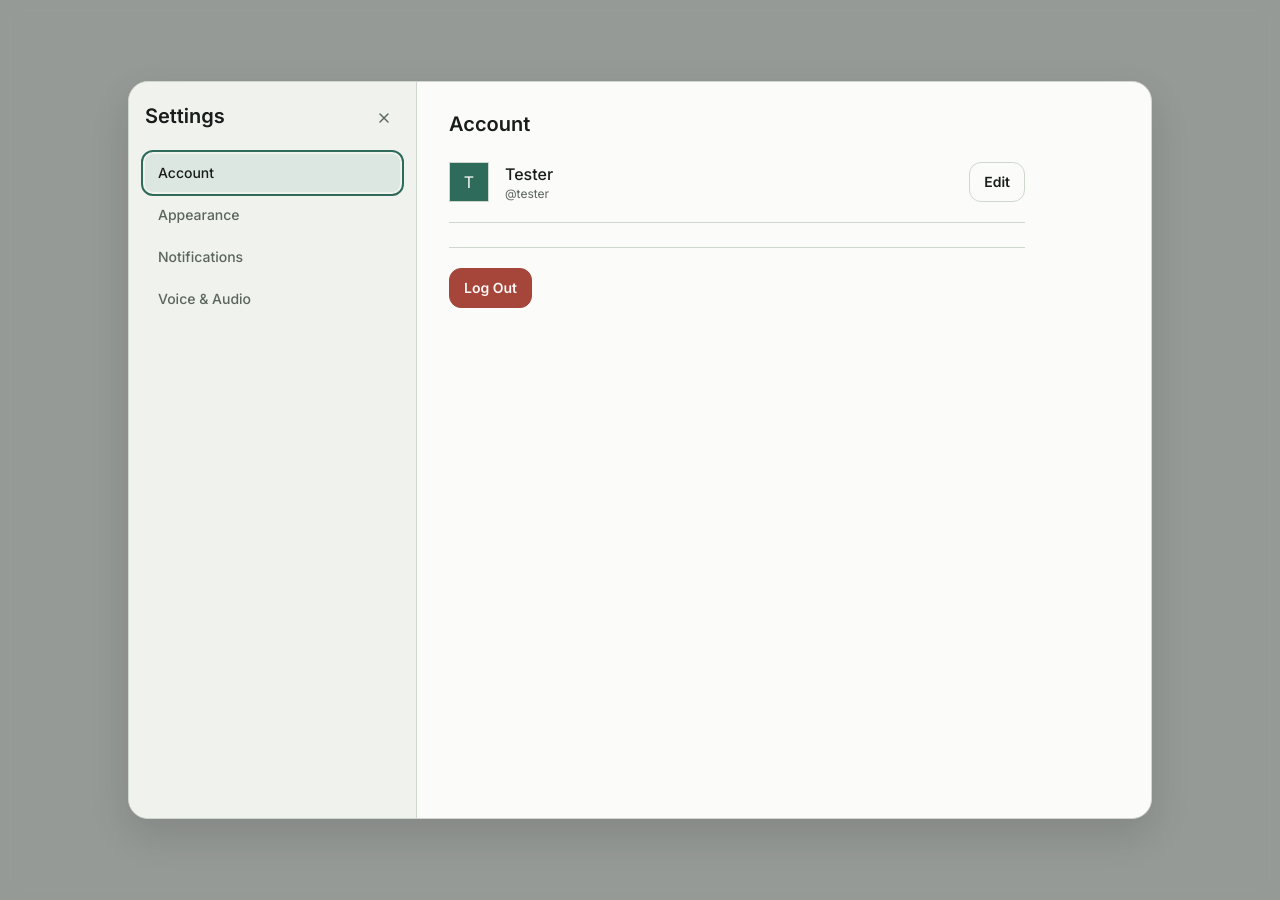
Test case: SettingsPage audio settings › shows device-label help when browser enumeration stays limited
The image size is (1280, 900).
Click the tab "Voice & Audio" at (272, 299), box [145,280,400,318]
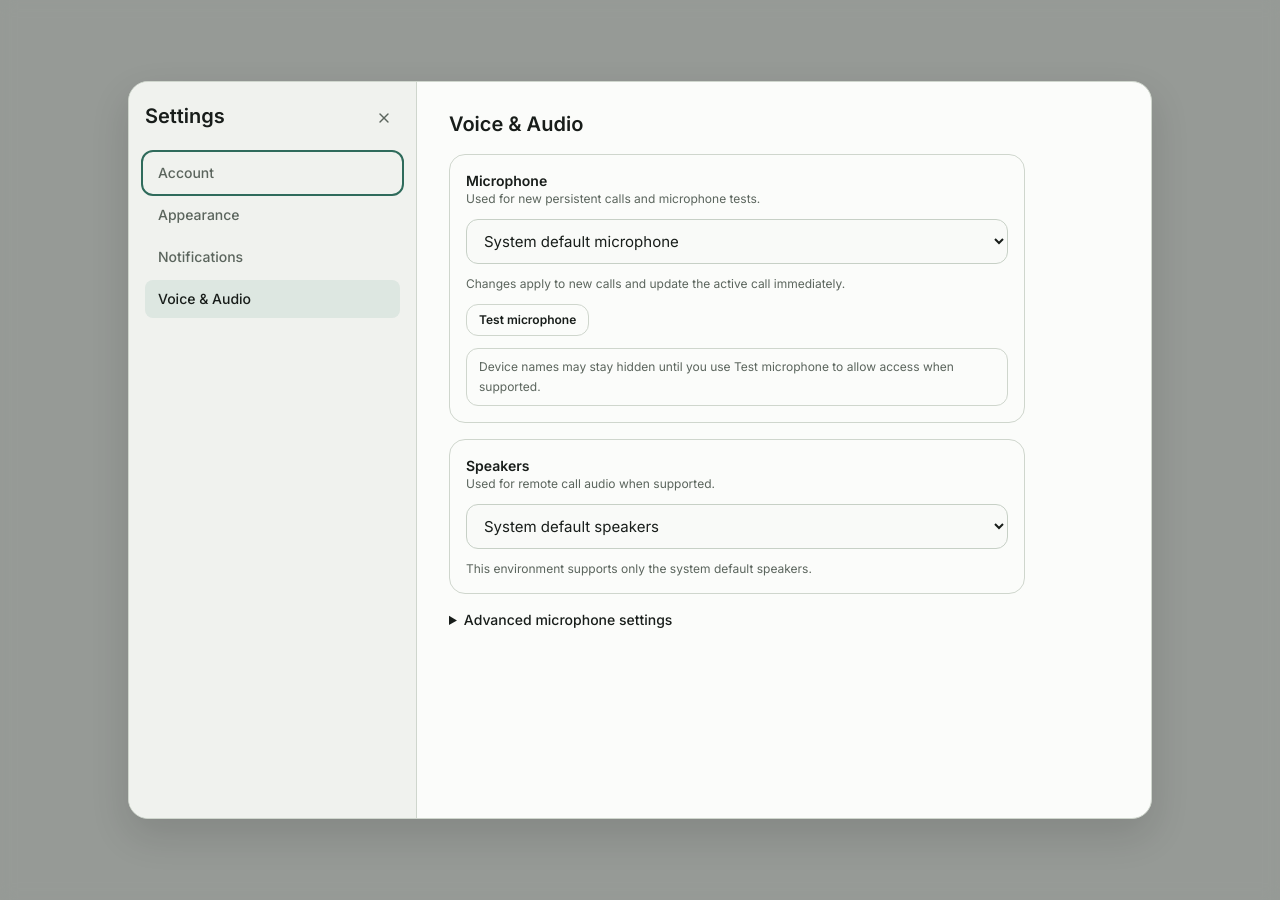
Expected: the message with test id "settings-audio-feedback" shows "Device names may stay hidden until you use Test microphone", [479,359,954,394]
